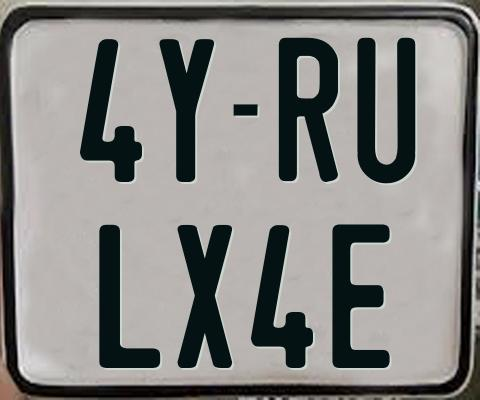4: (79, 36, 144, 182), (248, 225, 313, 368)
E: (329, 223, 392, 369)
L: (99, 225, 164, 369)
R: (277, 35, 342, 180)
U: (355, 36, 419, 184)
X: (177, 225, 235, 374)
Y: (158, 39, 214, 186)
